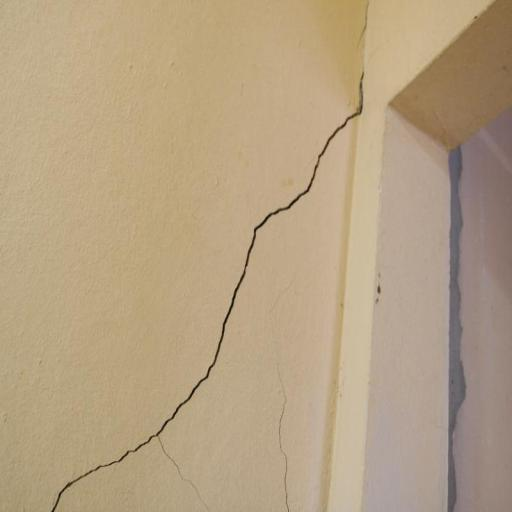spalling: (46, 74, 370, 509)
